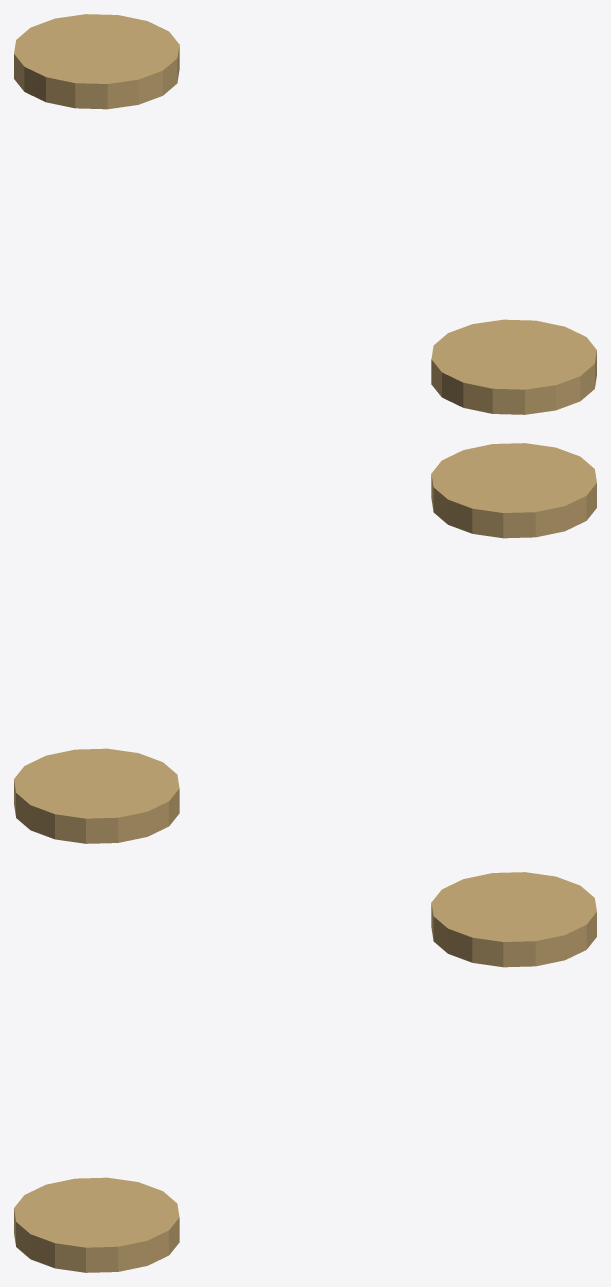
The model's file is SM_Malikane_Kapi_Tokmak.fbx.
The picture shows the model from 3 angles, top to bottom: view 1: azimuth 30°, elevation 25°; view 2: azimuth 150°, elevation 25°; view 3: azimuth 330°, elevation 25°; orthographic projection.
Visible parts, largest first — view 1: Malikane_Kapi_Tokmak; view 2: Malikane_Kapi_Tokmak; view 3: Malikane_Kapi_Tokmak.
Part boxes in pixels (left/top/right/bottom): Malikane_Kapi_Tokmak: left=14, top=14, right=596, bottom=414; Malikane_Kapi_Tokmak: left=14, top=443, right=596, bottom=843; Malikane_Kapi_Tokmak: left=14, top=872, right=596, bottom=1272.
Bounding box in the file's own units: 18 × 3 × 108.
